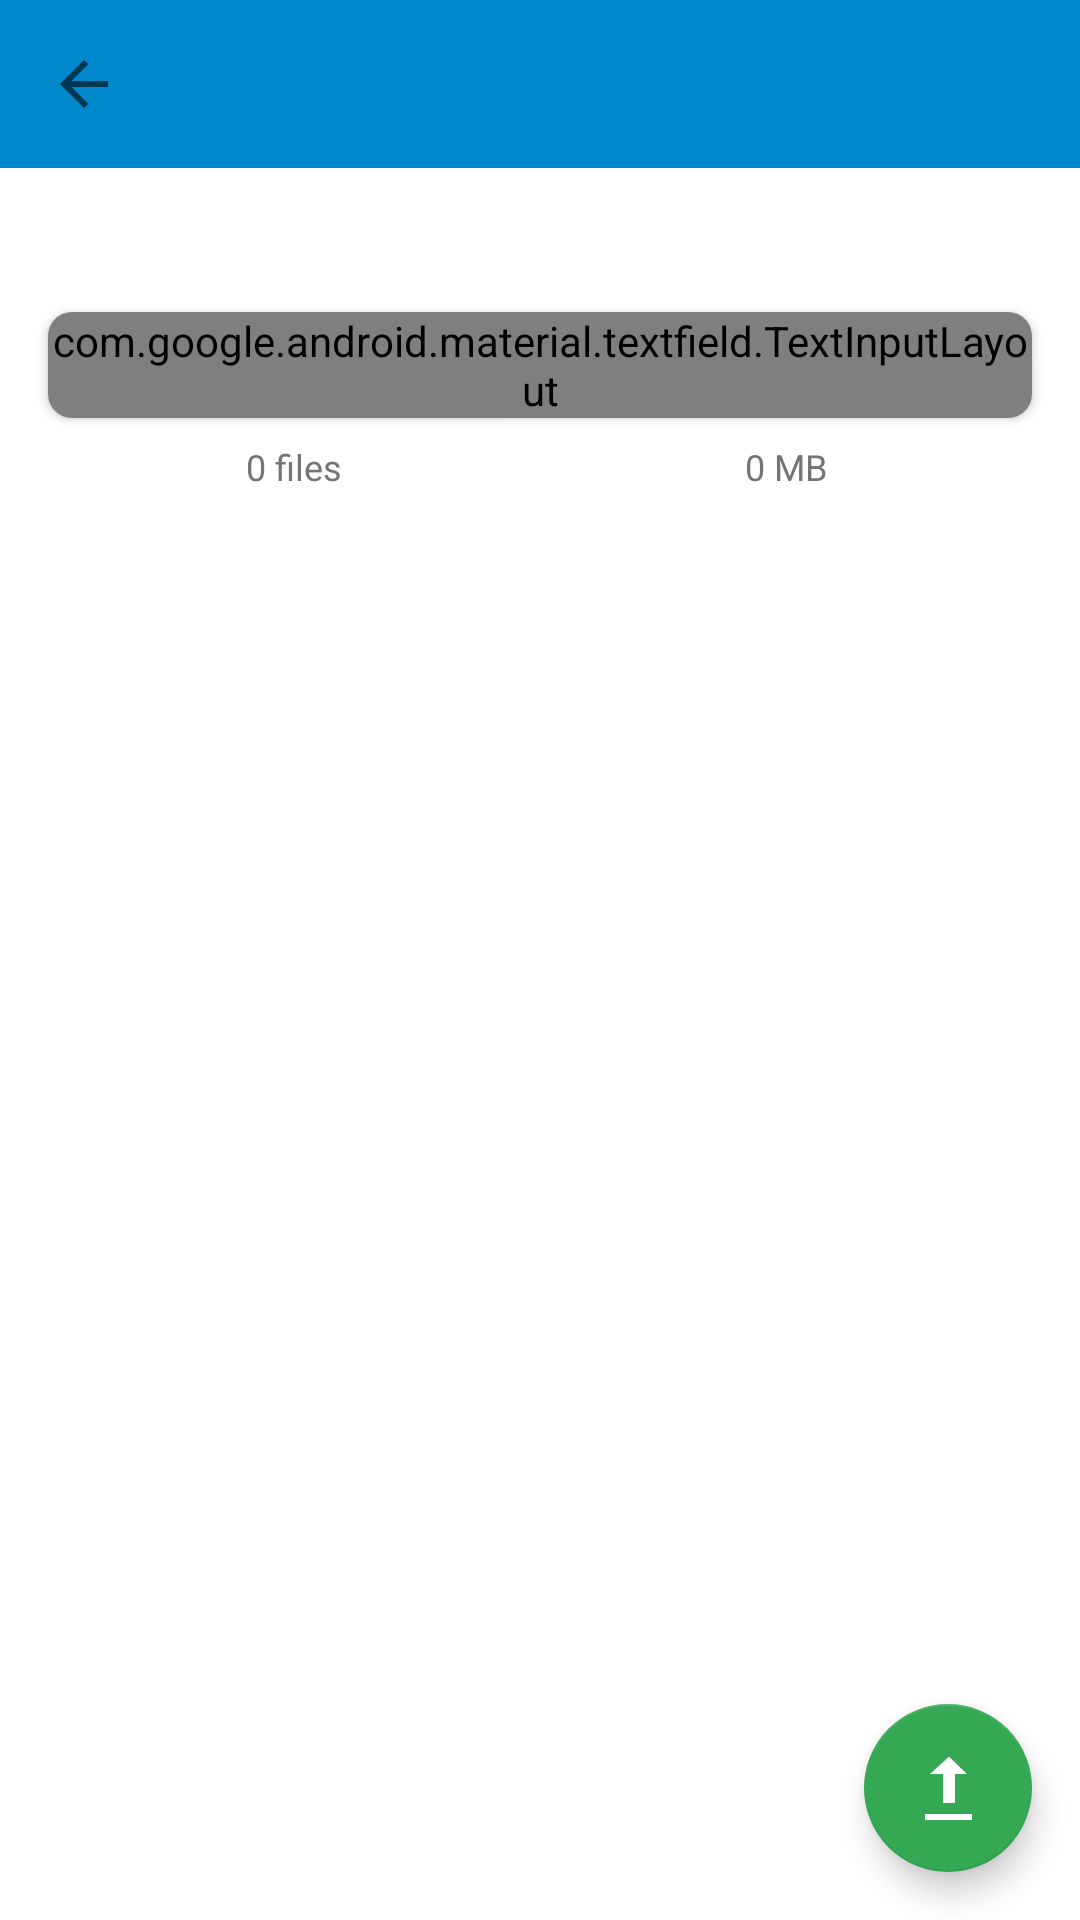

Where icons sit on this 1080 × 1920 app screen, as (x1, y1, x2, y2):
upload: (864, 1704, 1032, 1872)
